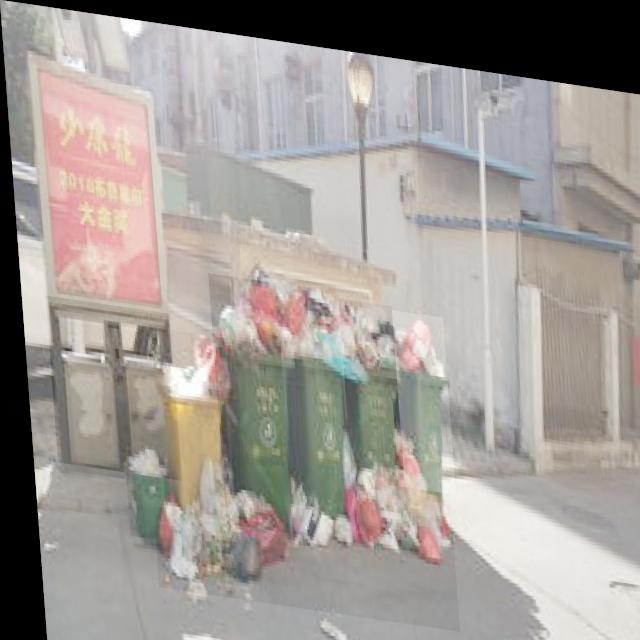garbage: (139, 386, 451, 619)
garbage_bin: (41, 295, 175, 476)
overflow: (204, 267, 298, 528), (272, 268, 345, 506), (144, 323, 231, 513), (382, 298, 449, 482), (335, 289, 397, 459), (117, 437, 162, 538)
